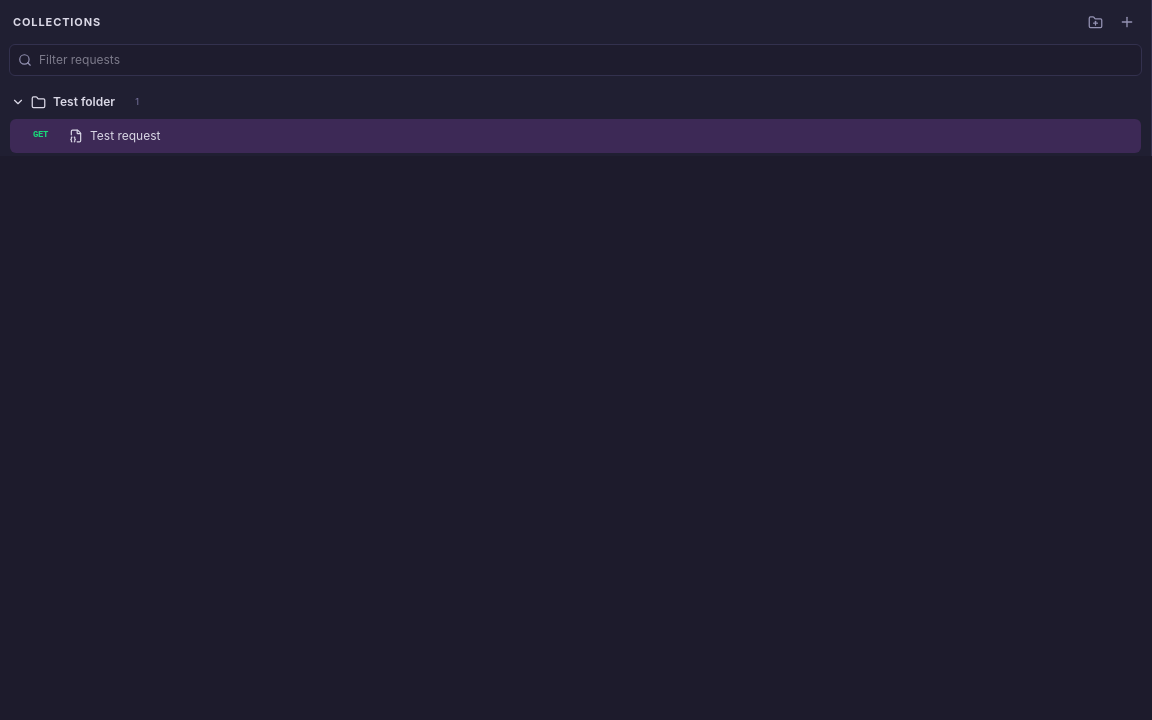
CollectionSidebar › opens deletion confirmation in a modal dialog
Right-click the element showing "GET Test request".
right_click(576, 136)  # box x1=10 y1=119 x2=1141 y2=153
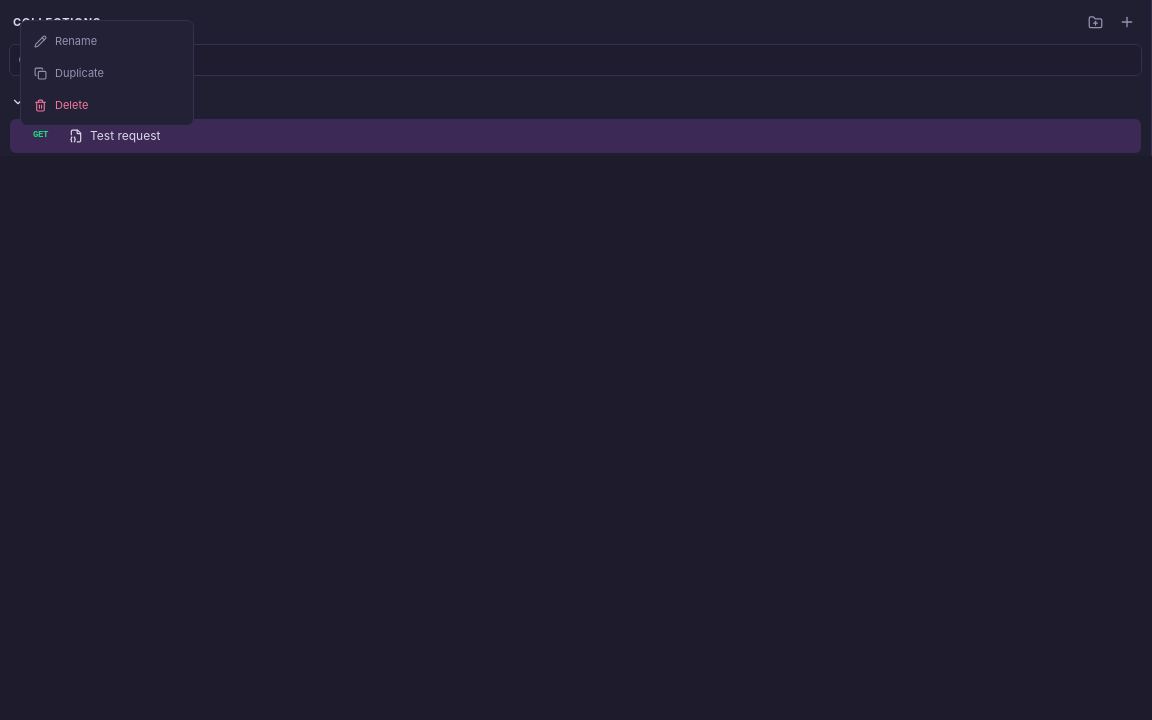
Expected: the menu item with class "is-danger" is shown
Click the menu item with class "is-danger".
click(107, 105)  # box x1=26 y1=90 x2=188 y2=120
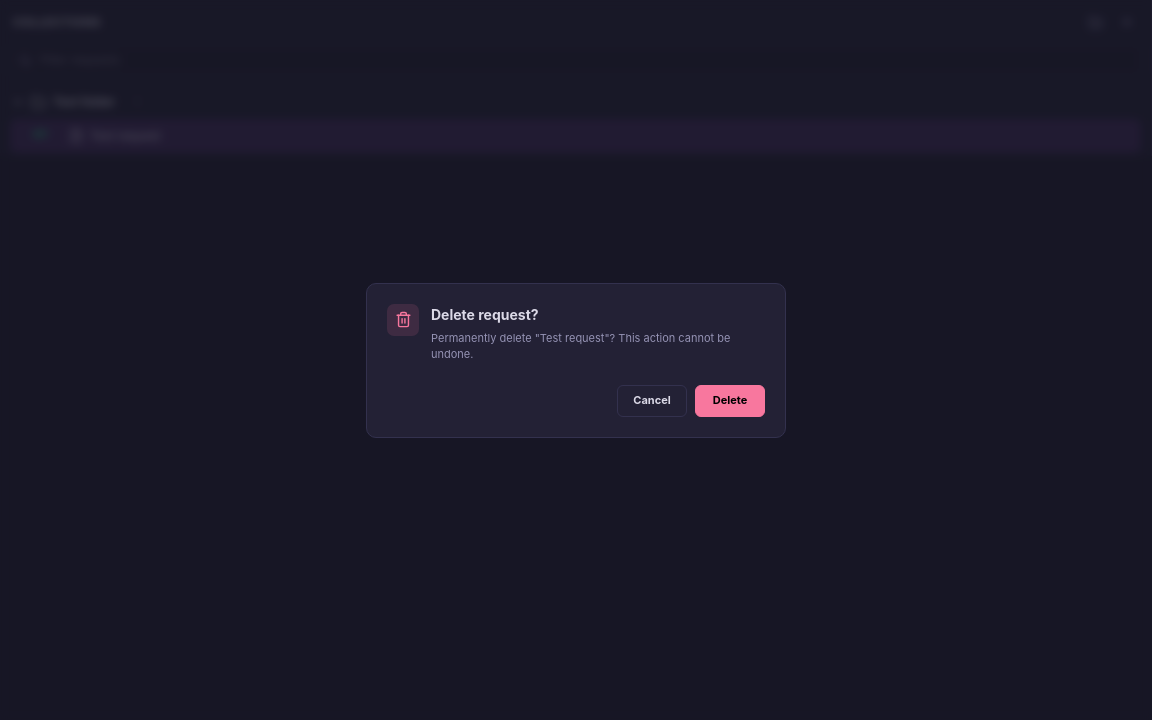
Expected: the dialog is shown, x1=366 y1=282 x2=786 y2=438
Expected: the dialog shows "Test request", x1=431 y1=330 x2=730 y2=361
Expected: the menu with class "collection-context-menu" is gone
